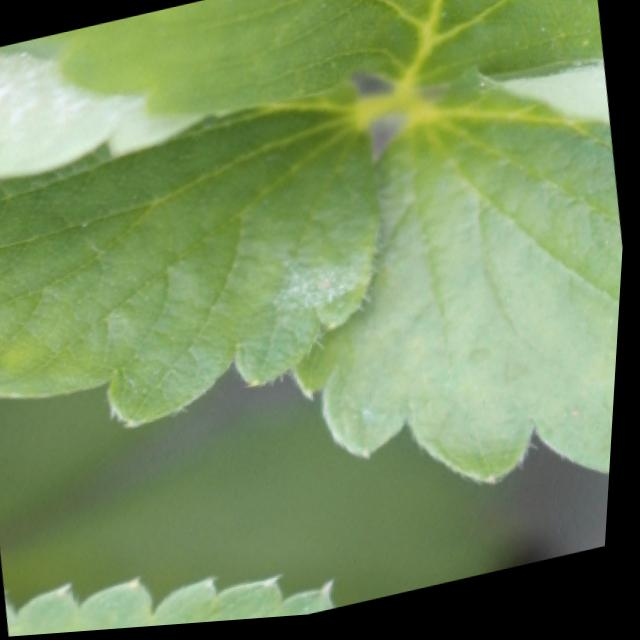Powdery Mildew Leaf: (0, 46, 387, 435), (291, 67, 626, 492)
